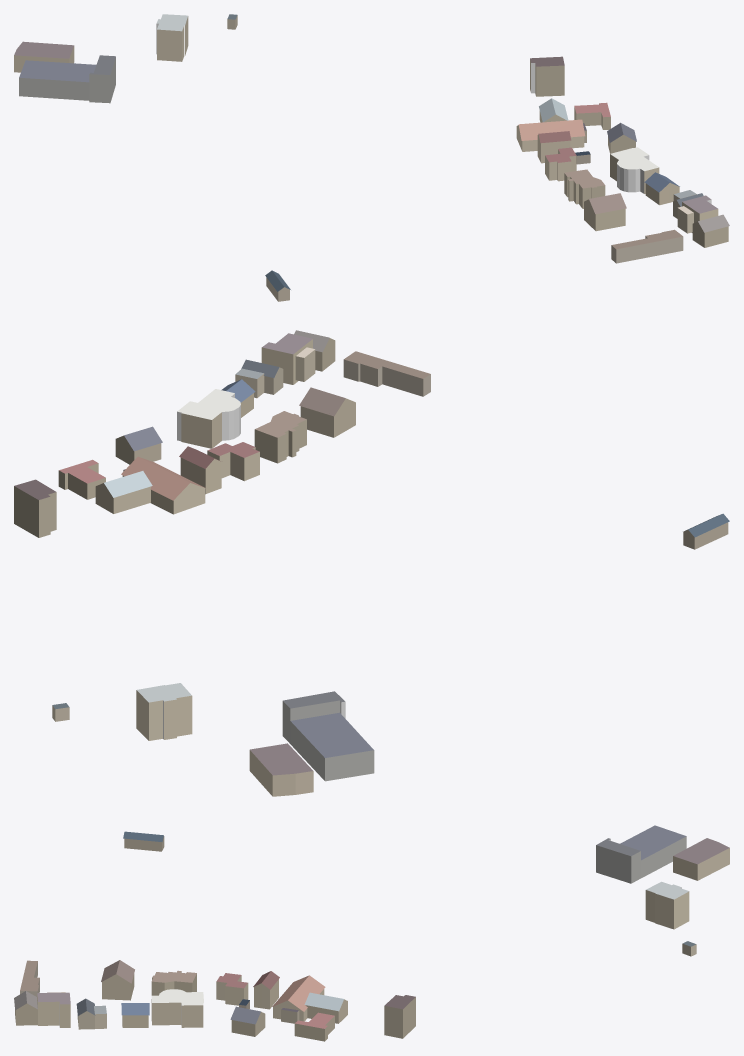
The picture shows the model from 3 angles, top to bottom: view 1: azimuth 30°, elevation 25°; view 2: azimuth 150°, elevation 25°; view 3: azimuth 270°, elevation 25°; orthographic projection. The views are drawn at different scales.
Visible parts, largest first — view 1: tuile; view 2: tuile; view 3: tuile.
Boxes of the visible parts, x1,y1,x2,y2 form: tuile: (14, 14, 729, 301); tuile: (14, 330, 729, 796); tuile: (14, 825, 729, 1041).
Bounding box in the file's own units: 178 × 14.91 × 262.
